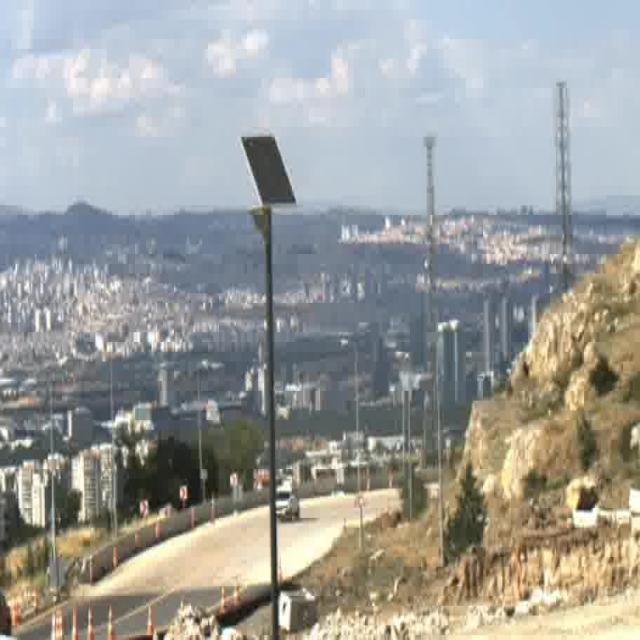Car: (271, 488, 300, 520), (1, 588, 12, 632)
